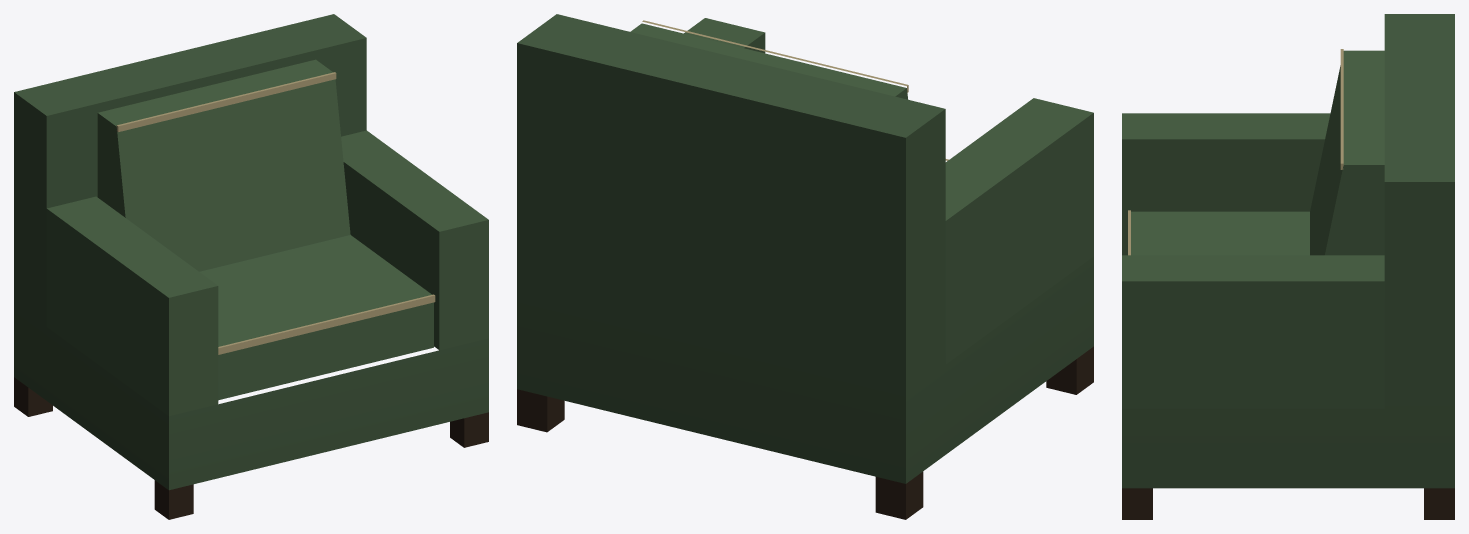
File: sofa.armchair.green.glb
3 renders of one model, left to right at view 1: azimuth 30°, elevation 25°; view 2: azimuth 150°, elevation 25°; view 3: azimuth 270°, elevation 25°, orthographic. The views are drawn at different scales.
Visible parts, largest first — view 1: sofa_armchair_green; view 2: sofa_armchair_green; view 3: sofa_armchair_green.
Part boxes in pixels (bbox=[...]): sofa_armchair_green: bbox=[14, 14, 488, 519]; sofa_armchair_green: bbox=[517, 14, 1093, 519]; sofa_armchair_green: bbox=[1122, 14, 1454, 519].
Size of what is drawn, in the model's own units: 0.905 by 0.85 by 0.758.
